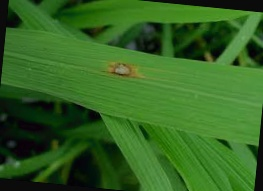Brown_Spot: (101, 52, 142, 80)
